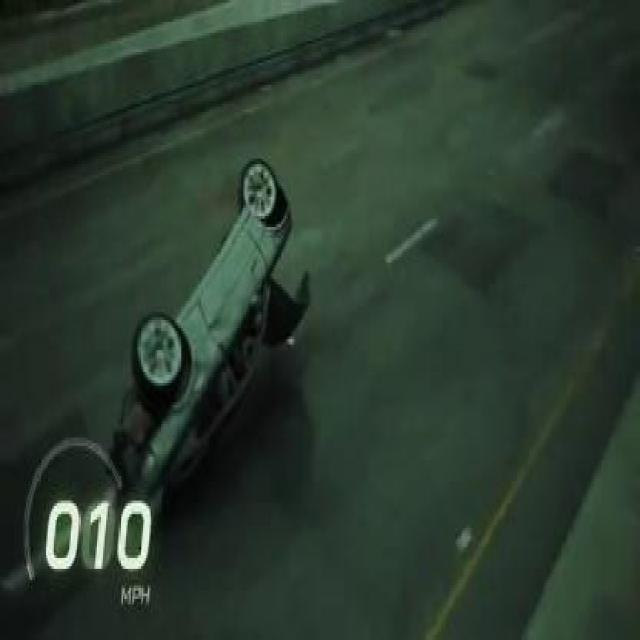accident: (102, 137, 310, 528)
